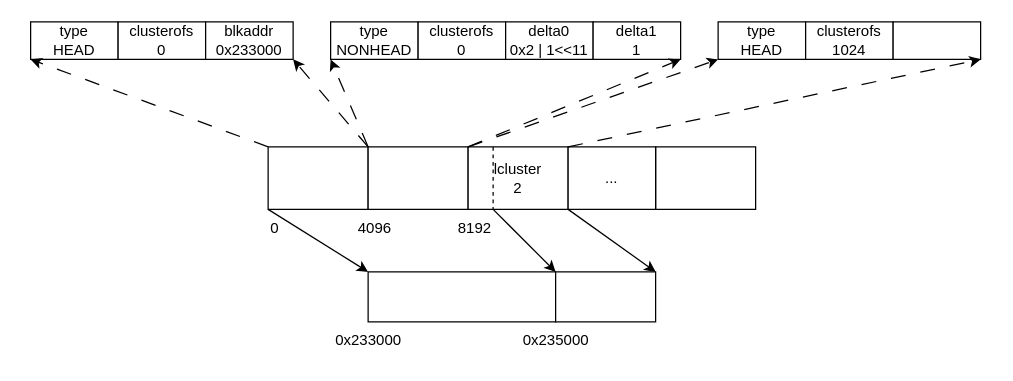
Image size: 1013x381. Some labels were removed from this diagram. Here are the shapes that lost their labels. From the top down, the box of each, then its label:
(892, 21, 981, 59): blkaddr 0x235000
(267, 146, 368, 209): lcluster 0
(367, 146, 468, 209): lcluster 1
(654, 146, 756, 209): lcluster n
(367, 271, 556, 322): pcluster size = 8192
(554, 271, 656, 322): pcluster size = 4096
